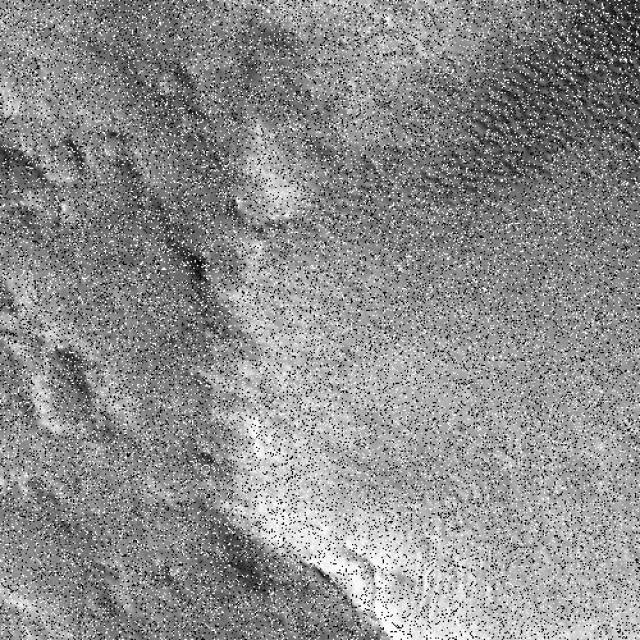crater: (55, 0, 640, 640), (386, 0, 640, 115), (541, 0, 639, 103)
